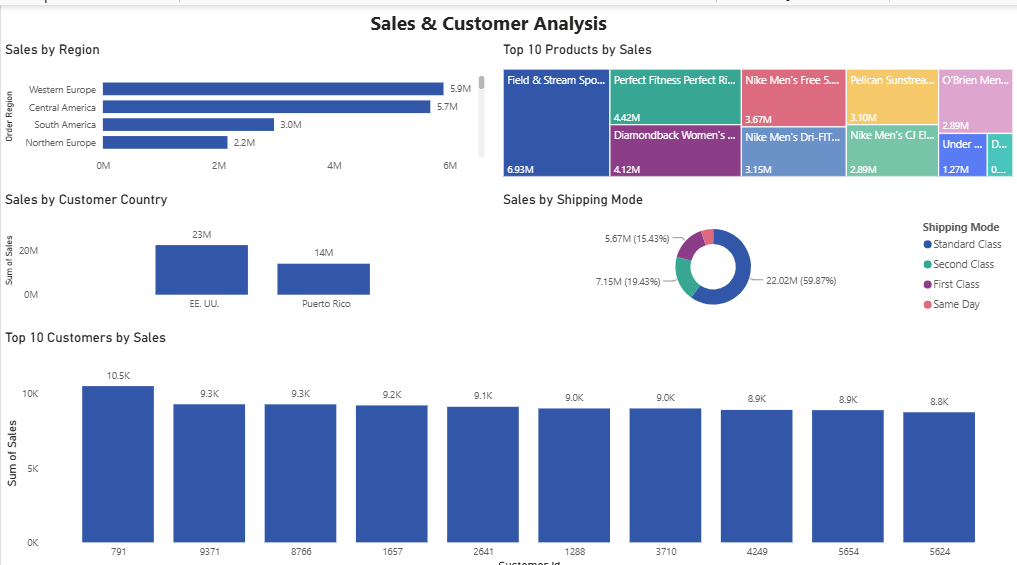

The dashboard page shown, as its layout file describes it:
{"tool":"powerbi","page":{"name":"Sales & Customer Analysis","canvas":[1280,720],"ordinal":1},"visuals":[{"type":"clusteredBarChart","title":"Sales by Region","fields":{"Category":["DataCoSupplyChain_Cleaned.Order Region"],"Y":["Sum(DataCoSupplyChain_Cleaned.Sales)"]},"box":[0,45.4,614.2,175.7],"z":0},{"type":"treemap","title":"Top 10 Products by Sales","fields":{"Group":["DataCoSupplyChain_Cleaned.Product Name"],"Values":["Sum(DataCoSupplyChain_Cleaned.Sales)"]},"box":[627.4,45.4,652,175.7],"z":1000},{"type":"clusteredColumnChart","title":"Sales by Customer Country","fields":{"Category":["DataCoSupplyChain_Cleaned.Customer Country"],"Y":["Sum(DataCoSupplyChain_Cleaned.Sales)"]},"box":[0,234.3,614.2,160.6],"z":2000},{"type":"donutChart","title":"Sales by Shipping Mode","fields":{"Category":["DataCoSupplyChain_Cleaned.Shipping Mode"],"Y":["Sum(DataCoSupplyChain_Cleaned.Sales)"]},"box":[627.4,234.3,652,160.6],"z":3000},{"type":"columnChart","title":"Top 10 Customers by Sales","fields":{"Category":["DataCoSupplyChain_Cleaned.Customer Id"],"Y":["Sum(DataCoSupplyChain_Cleaned.Sales)"]},"box":[0,408.2,1279.4,311.8],"z":4000},{"type":"textbox","box":[111.5,0,1005.4,45.4],"z":5000}]}

Visuals, with their boxes in screenshot pixels (x1, y1, x2, y2), scaled from the page's 1280x720 canvas onto the 1017x565 screenshot:
"Sales by Region" clusteredBarChart: bbox(0, 36, 488, 174)
"Top 10 Products by Sales" treemap: bbox(498, 36, 1016, 174)
"Sales by Customer Country" clusteredColumnChart: bbox(0, 184, 488, 310)
"Sales by Shipping Mode" donutChart: bbox(498, 184, 1016, 310)
"Top 10 Customers by Sales" columnChart: bbox(0, 320, 1016, 564)
textbox: bbox(89, 0, 887, 36)
